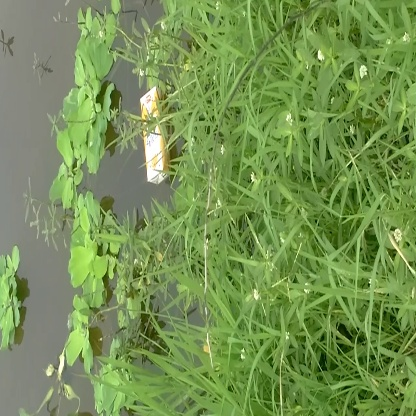milk-box: (134, 85, 189, 187)
